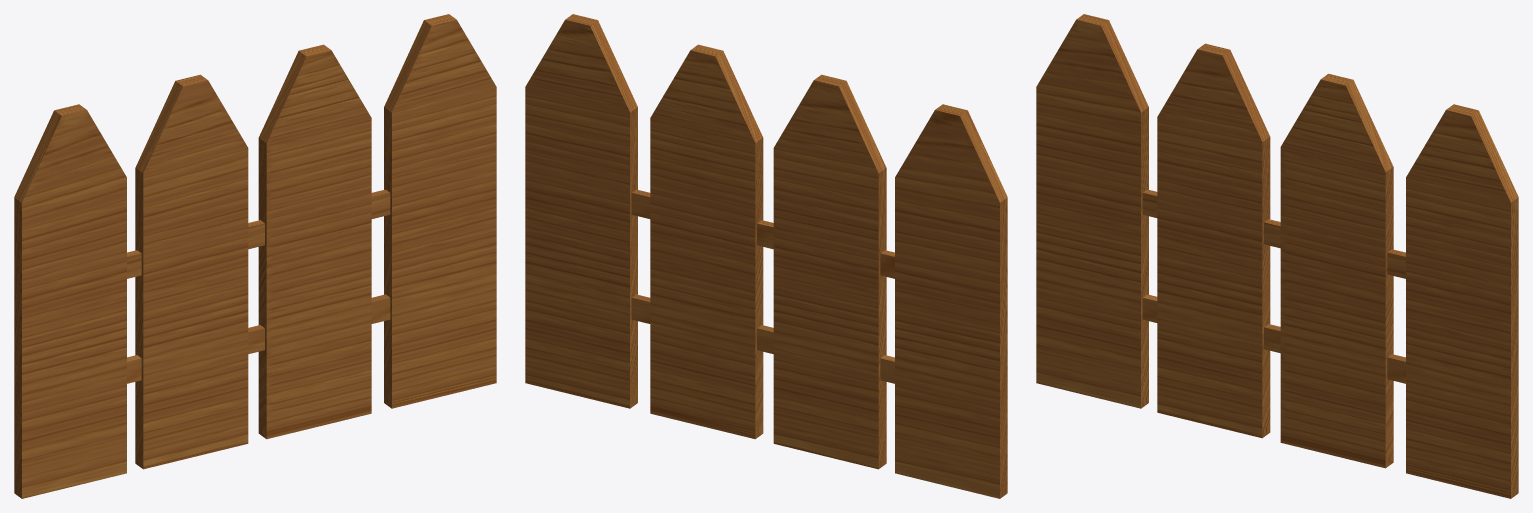
File: Valla 3_V2.fbx
3 views of the same model, side by side, from view 1: azimuth 30°, elevation 25°; view 2: azimuth 150°, elevation 25°; view 3: azimuth 330°, elevation 25° (orthographic).
Parts seen in each view (by area): view 1: Cube.005; view 2: Cube.005; view 3: Cube.005.
Boxes of the visible parts, bbox=[...] form: Cube.005: bbox=[14, 14, 496, 498]; Cube.005: bbox=[525, 14, 1007, 498]; Cube.005: bbox=[1036, 14, 1518, 498].
Bounding box in the file's own units: 336 × 252 × 9.58.
1 material, 1 textured.
